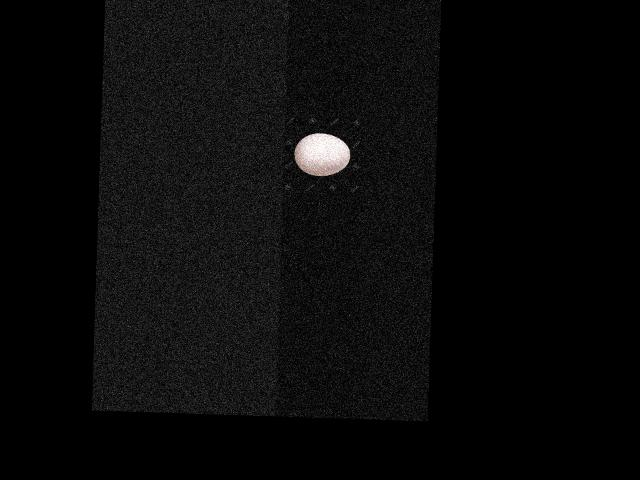egg: (293, 132, 350, 176)
